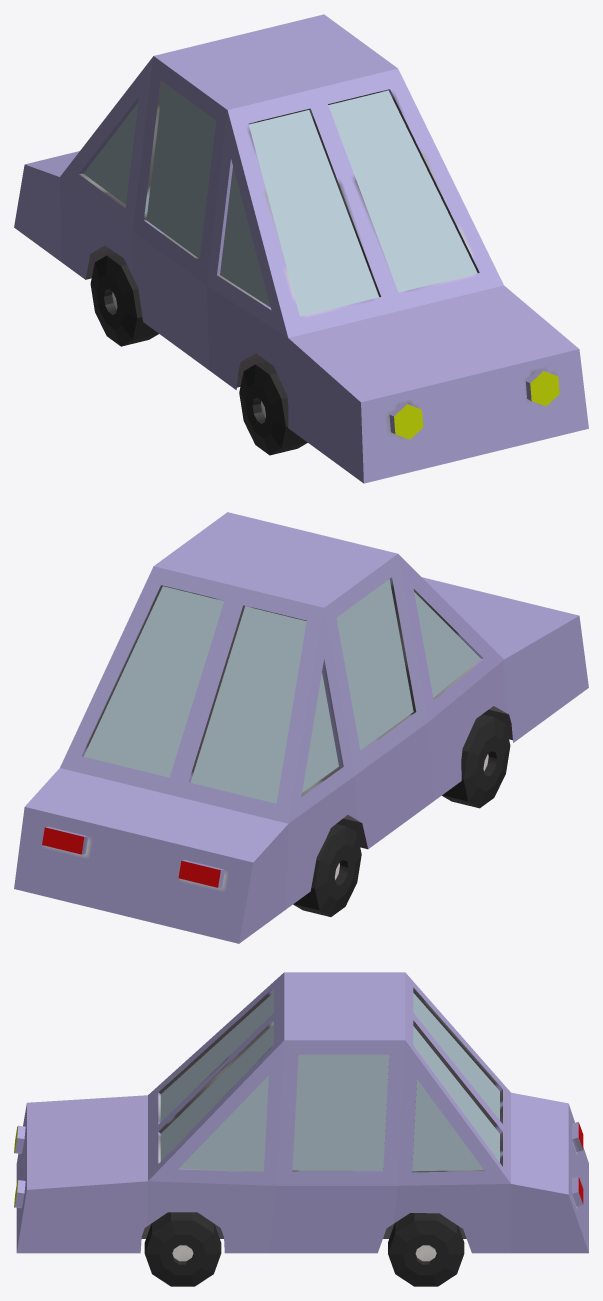
File: car.glb
The picture shows the model from 3 angles, top to bottom: view 1: azimuth 30°, elevation 25°; view 2: azimuth 150°, elevation 25°; view 3: azimuth 270°, elevation 25°; orthographic projection. The views are drawn at different scales.
Visible parts, largest first — view 1: car_body, FW.R, RW.R; view 2: car_body, FW.R, RW.R; view 3: car_body, FW.L, RW.L.
Boxes of the visible parts, box(x1,y1,x2,y2) form: car_body: box(14, 14, 588, 483); FW.R: box(239, 361, 307, 455); RW.R: box(90, 253, 158, 346); car_body: box(14, 512, 588, 943); FW.R: box(442, 714, 510, 808); RW.R: box(293, 824, 361, 916); car_body: box(14, 972, 588, 1253); FW.L: box(144, 1212, 221, 1286); RW.L: box(388, 1213, 464, 1286).
Bounding box in the file's own units: 3.25 × 3.88 × 8.57.
1 material, 1 textured.
